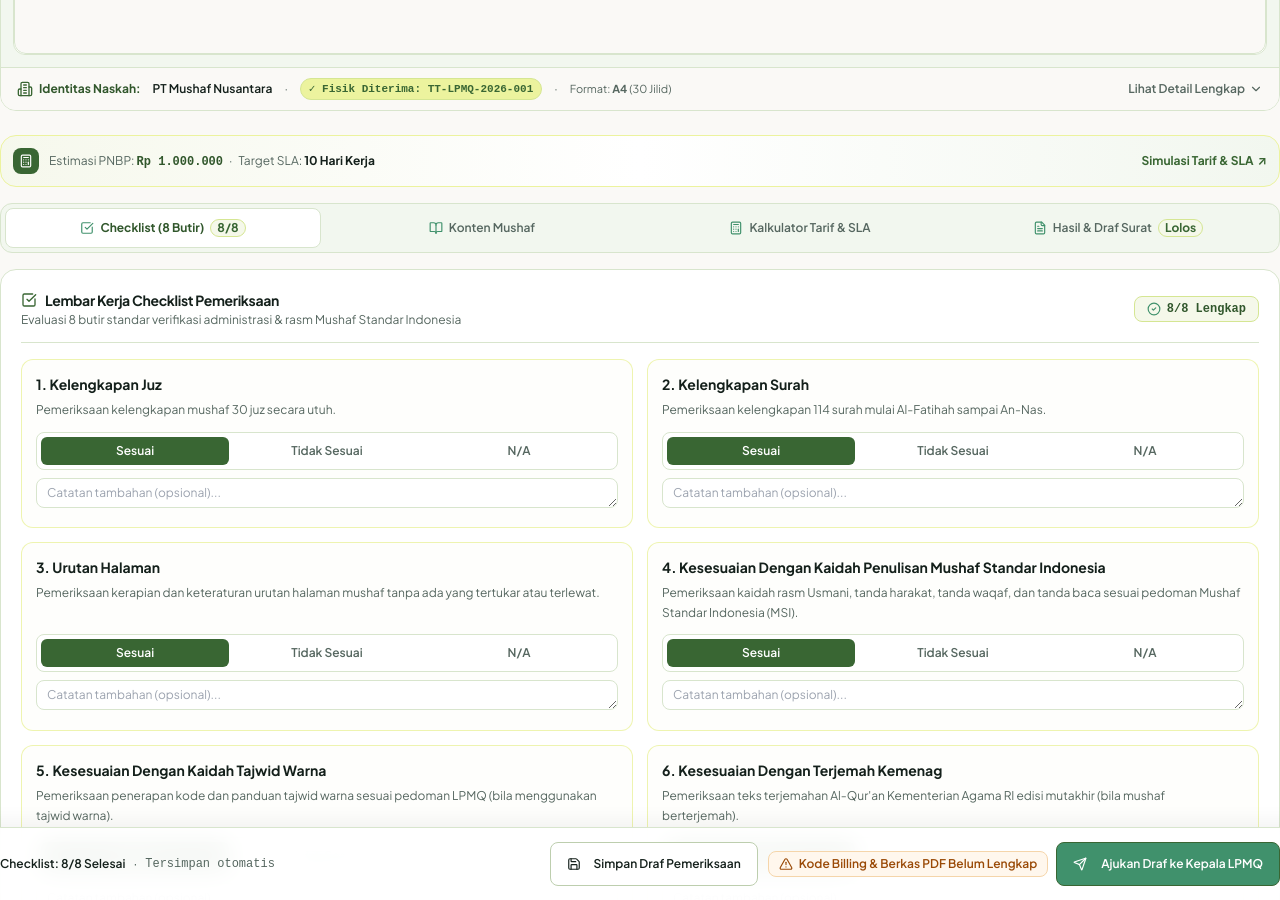
Test: VerificationInspectionPage Component › secara otomatis mengubah keputusan ke Ditolak/Perbaikan ketika ada butir checklist Tidak Sesuai
The image size is (1280, 900).
(page scrolled)
Expected: the heading "Lembar Kerja Checklist Pemeriksaan" is shown, top-left (21, 291), bottom-right (279, 309)
Click the radio button labelled "Tidak Sesuai" below "1. Kelengkapan Juz".
click(327, 450)  # box top-left (291, 443), bottom-right (363, 458)
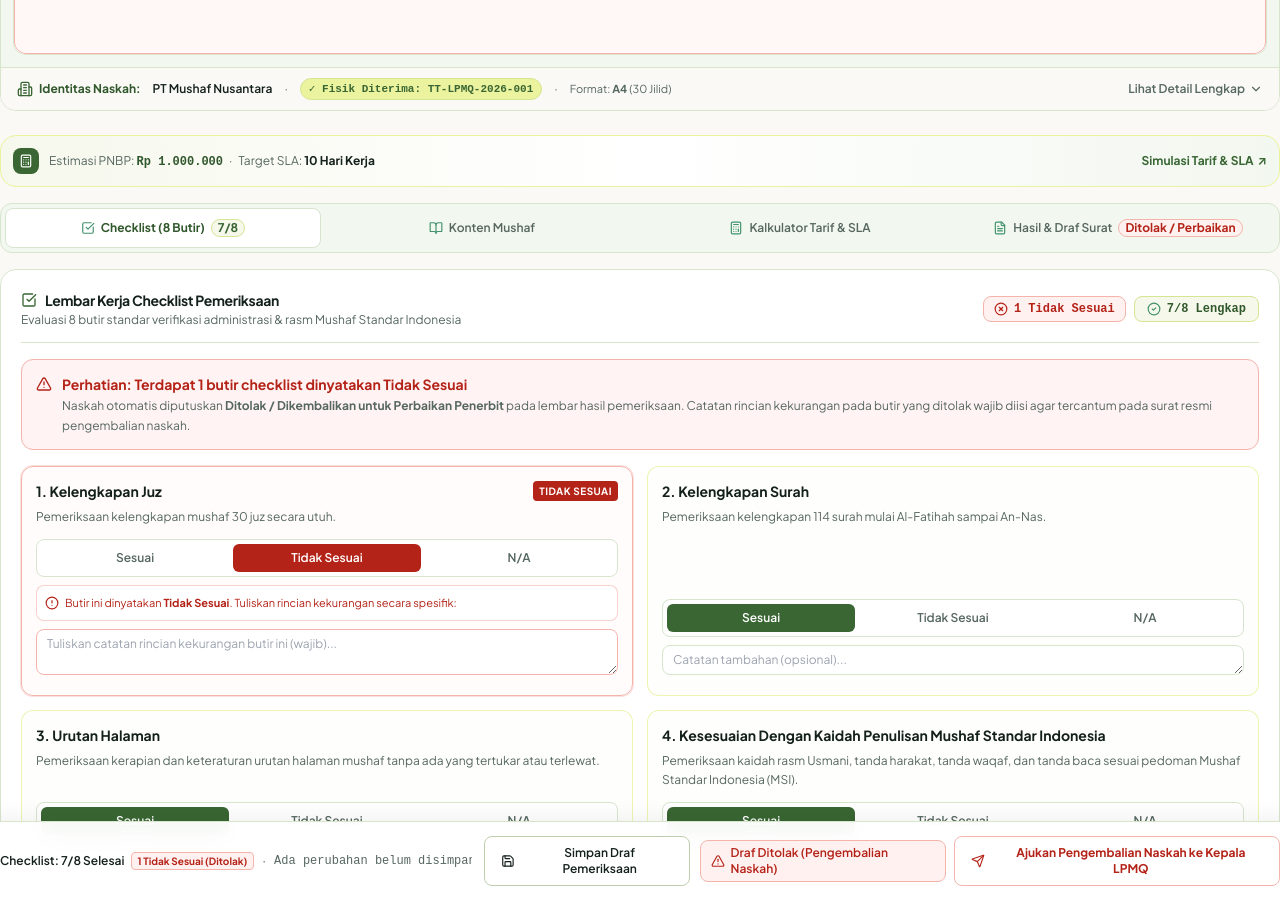
Now the text "Perhatian: Terdapat 1 butir checklist dinyatakan Tidak Sesuai" is shown, box top-left (62, 375), bottom-right (467, 393)
Now the text "Ditolak / Perbaikan" is shown, box top-left (1118, 219), bottom-right (1243, 237)
